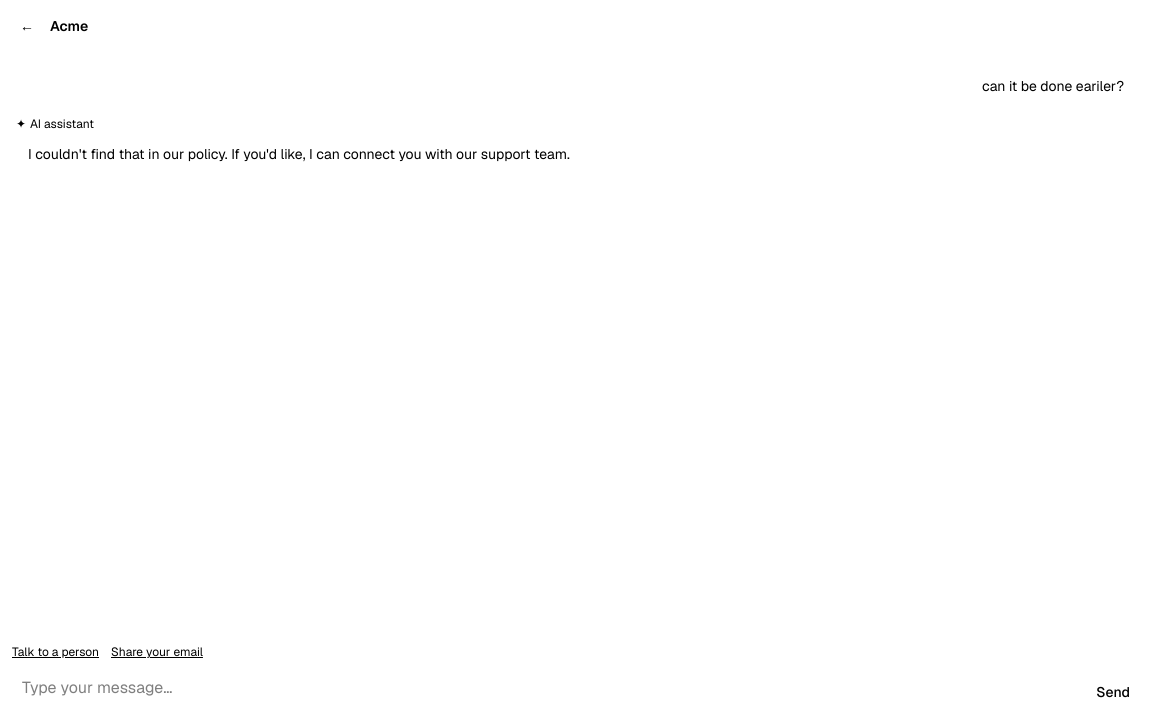
Scenario: exactly one human-handoff action › requesting replaces the action with a non-interactive status and sends one request
Click the button "Talk to a person" at (56, 652), box left=12, top=644, right=99, bottom=660
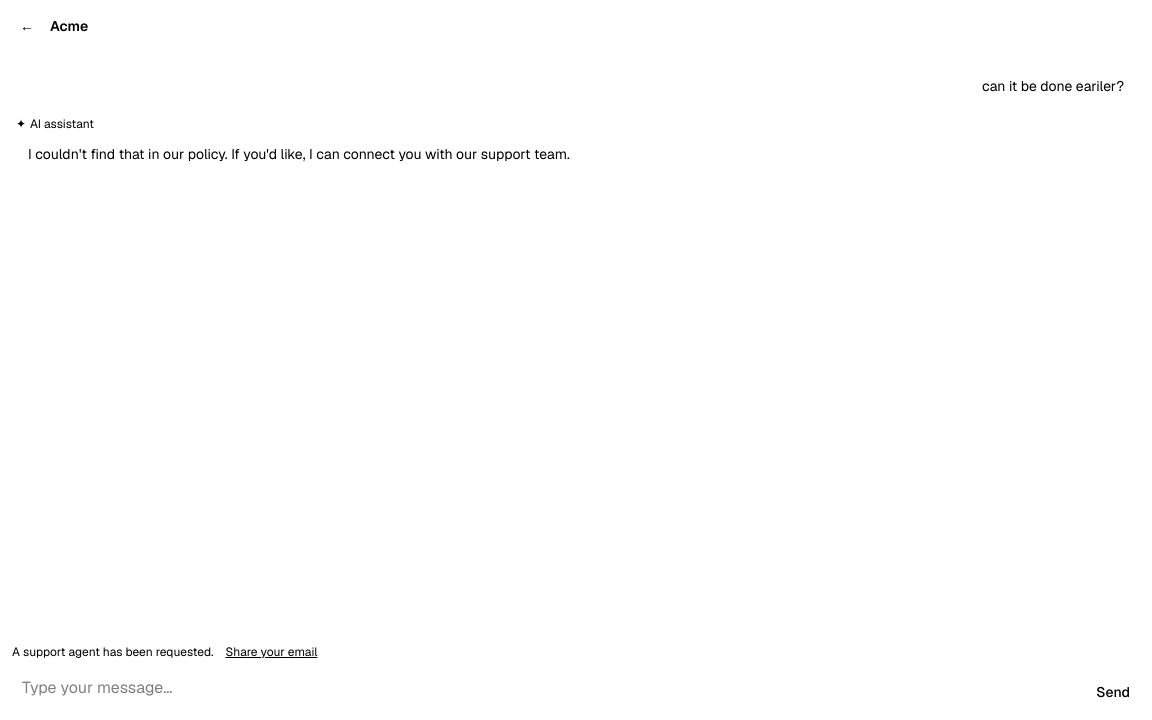
Result: the text "A support agent has been requested." is shown once at left=12, top=644, right=214, bottom=660
Result: no buttons "Talk to a person" are shown
